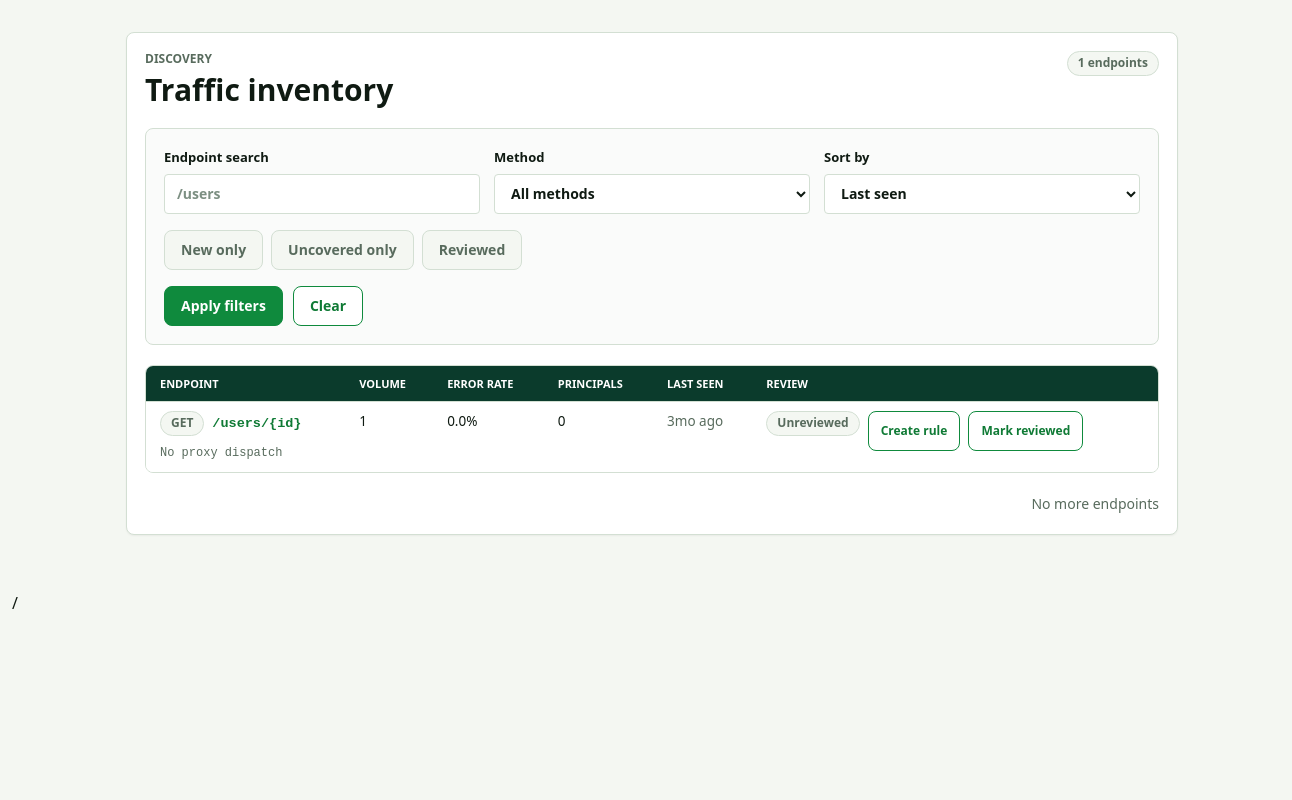
Test: TrafficInventory › disables review controls after a write-permission denial
Expected: the link "/users/{id}" is shown, top-left (212, 413), bottom-right (302, 434)
Click the button with aria-label "Mark reviewed GET /users/{id}" at point(1026, 431), box top-left (968, 411), bottom-right (1083, 451)
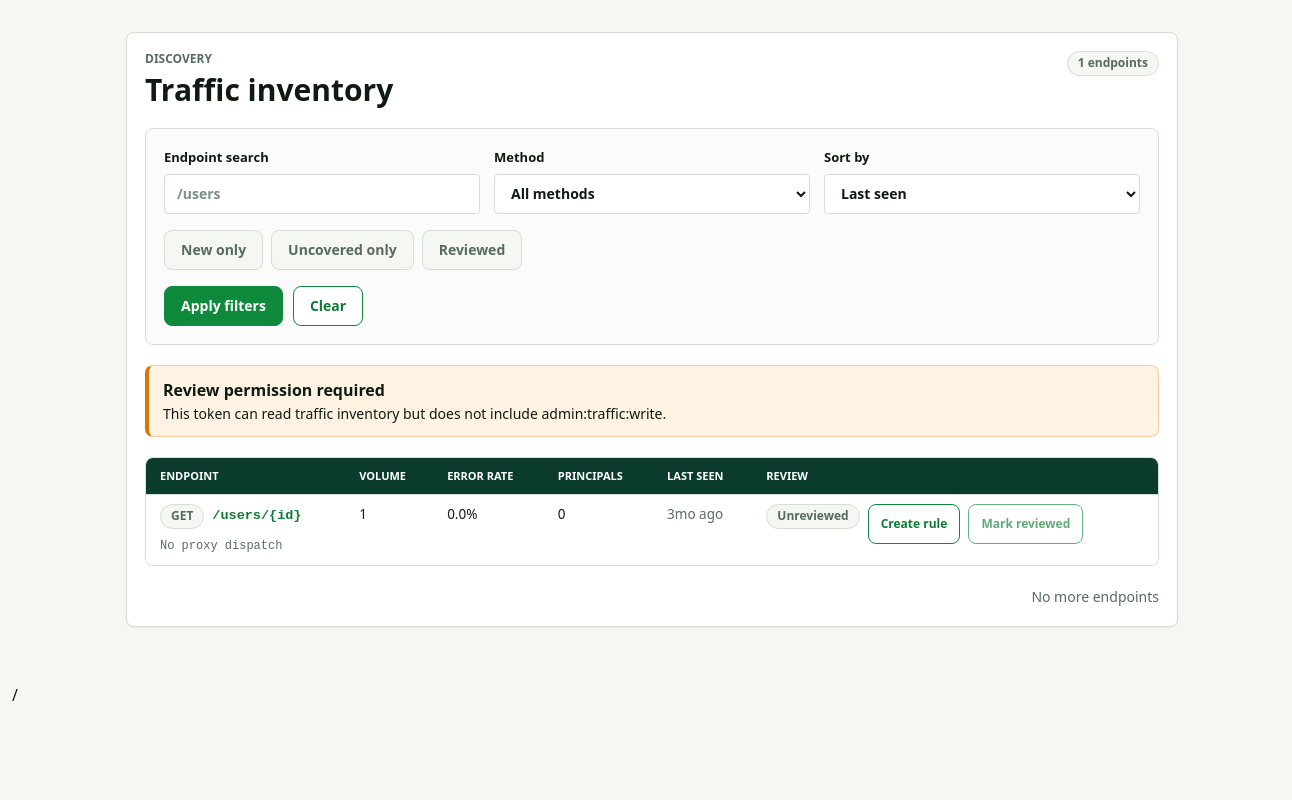
Expected: the heading "Review permission required" is shown, top-left (163, 379), bottom-right (385, 401)
Expected: the button with aria-label "Mark reviewed GET /users/{id}" is disabled, top-left (968, 504), bottom-right (1083, 544)
